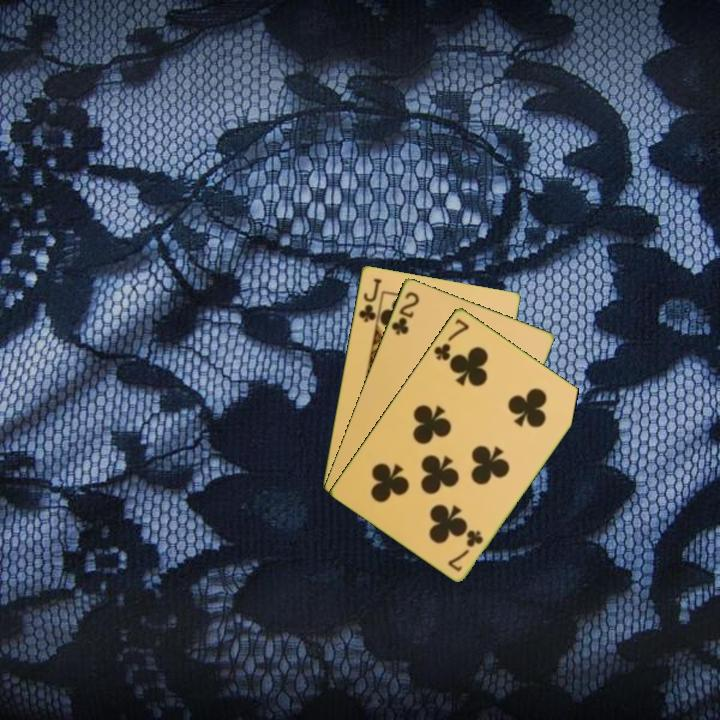2c: (388, 287, 422, 338)
7c: (430, 315, 472, 363), (444, 526, 486, 574)
Jc: (355, 274, 384, 325)
